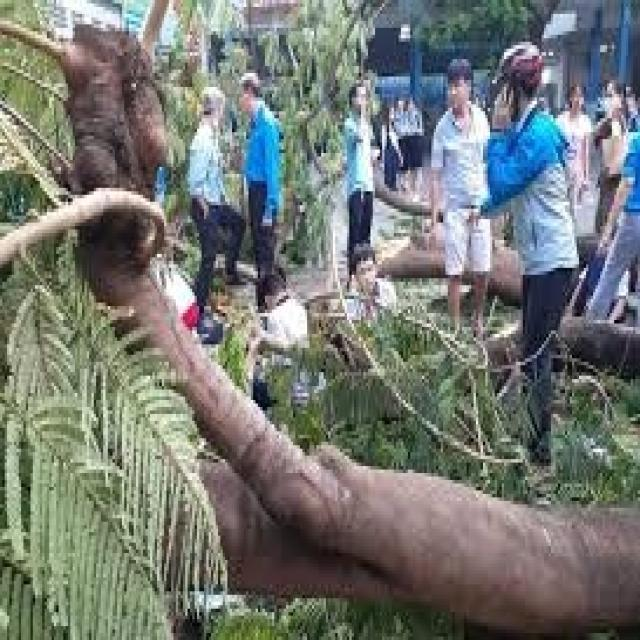fallen_object: (21, 36, 639, 640)
